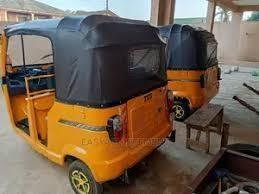keke: (0, 14, 176, 194), (171, 18, 226, 122)
